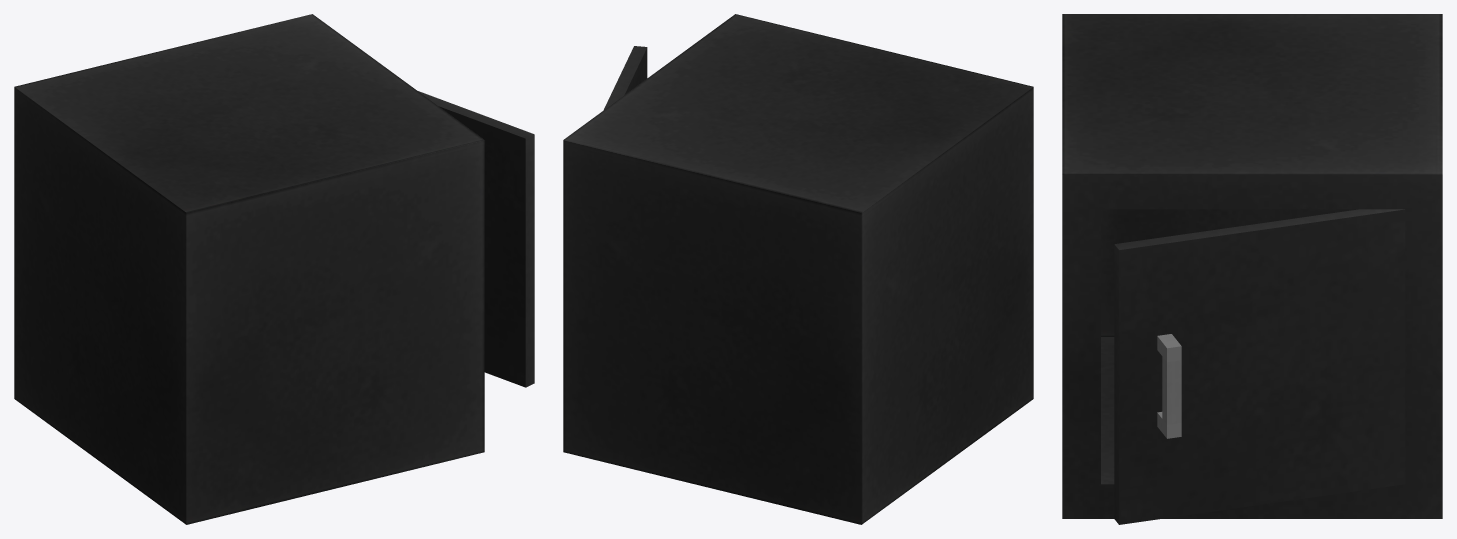
The model's file is safe.fbx.
3 views of the same model, side by side, from view 1: azimuth 30°, elevation 25°; view 2: azimuth 150°, elevation 25°; view 3: azimuth 270°, elevation 25° (orthographic). The views are drawn at different scales.
Visible parts, largest first — view 1: Cube, Cube.002; view 2: Cube, Cube.002; view 3: Cube, Cube.002.
Part boxes in pixels (x1,y1,x2,y2): Cube: [14, 14, 484, 524]; Cube.002: [418, 91, 534, 387]; Cube: [563, 14, 1033, 524]; Cube.002: [603, 46, 647, 110]; Cube: [1062, 14, 1442, 518]; Cube.002: [1114, 209, 1405, 524].
Size of the model in its own units: 259 by 200 by 200.
1 material, 1 textured.
